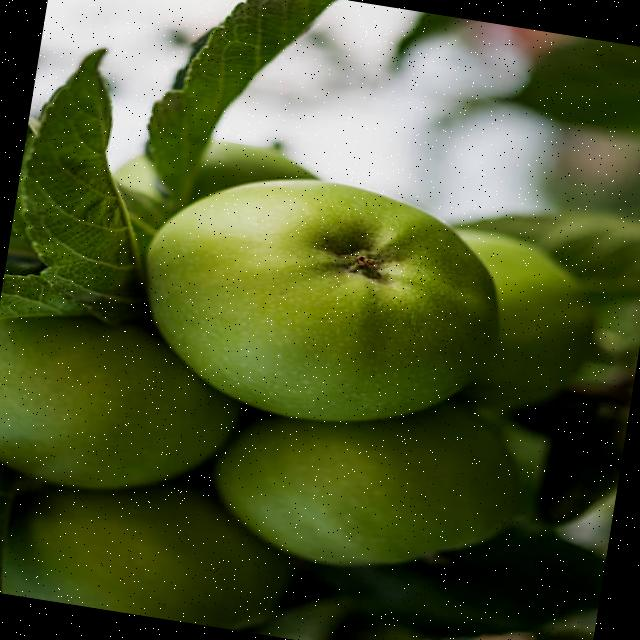Unripe: (121, 155, 512, 448)
